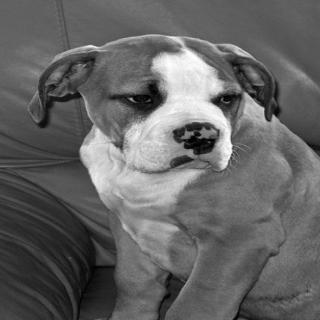dog: (25, 30, 286, 191)
nose: (167, 118, 226, 152)
